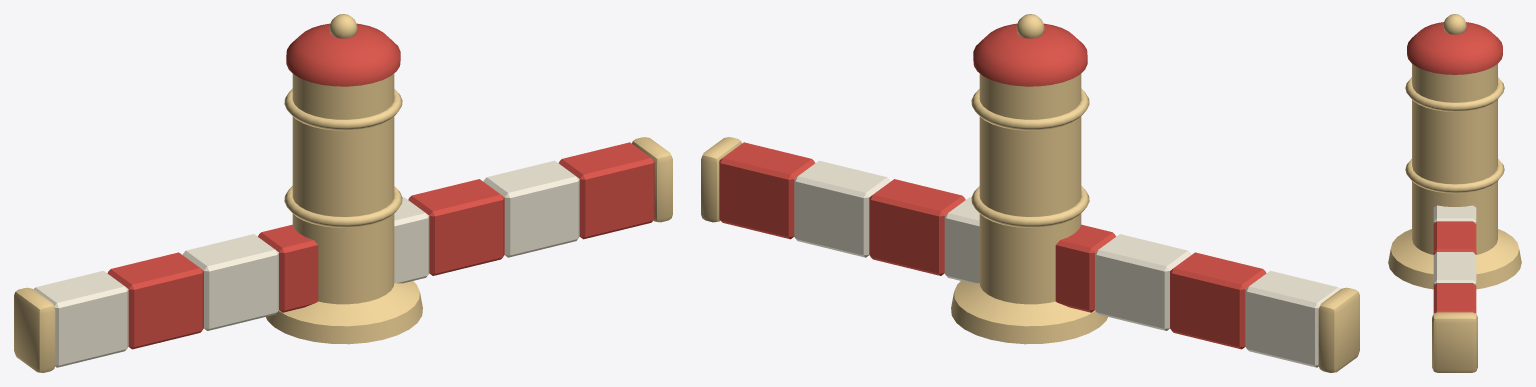
Rendered from spinner.glb.
3 views of the same model, side by side, from view 1: azimuth 30°, elevation 25°; view 2: azimuth 150°, elevation 25°; view 3: azimuth 270°, elevation 25° (orthographic). The views are drawn at different scales.
Parts seen in each view (by area): view 1: spinner; view 2: spinner; view 3: spinner.
Part boxes in pixels (bbox=[...]): spinner: bbox=[14, 14, 672, 372]; spinner: bbox=[701, 14, 1359, 372]; spinner: bbox=[1388, 14, 1521, 372].
Size of the model in its own units: 0.72 by 0.319 by 0.156.
